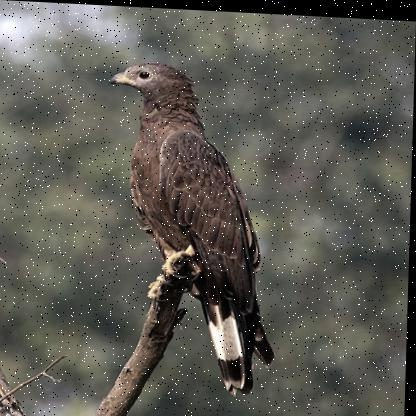Burung: (96, 56, 289, 395)
